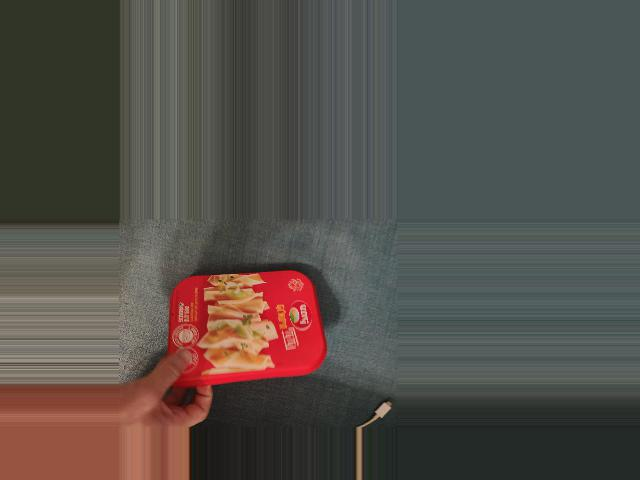cheese: (164, 268, 322, 391)
